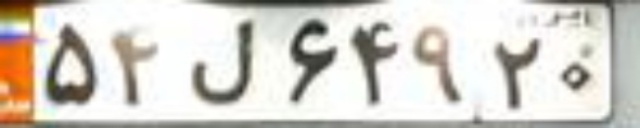0: (554, 62, 592, 91)
2: (492, 35, 550, 109)
4: (351, 19, 400, 105), (110, 28, 163, 106)
5: (45, 24, 98, 105)
6: (285, 17, 342, 104)
9: (410, 25, 461, 102)
lam: (184, 15, 253, 105)
